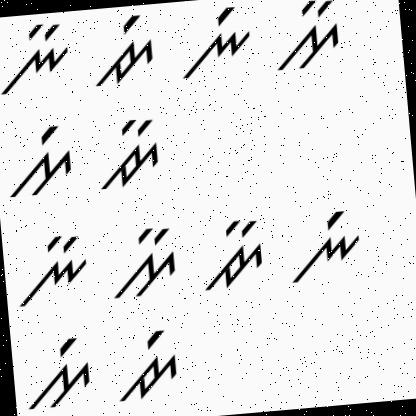jan: (86, 113, 166, 199), (196, 217, 267, 295)
jang: (82, 13, 164, 98), (110, 322, 184, 404)
nyan: (12, 222, 93, 313), (0, 17, 72, 98)
nyang: (278, 202, 367, 286), (172, 3, 256, 88)
san: (104, 221, 183, 308), (272, 0, 347, 72)
sang: (18, 330, 98, 415), (0, 121, 78, 200)
